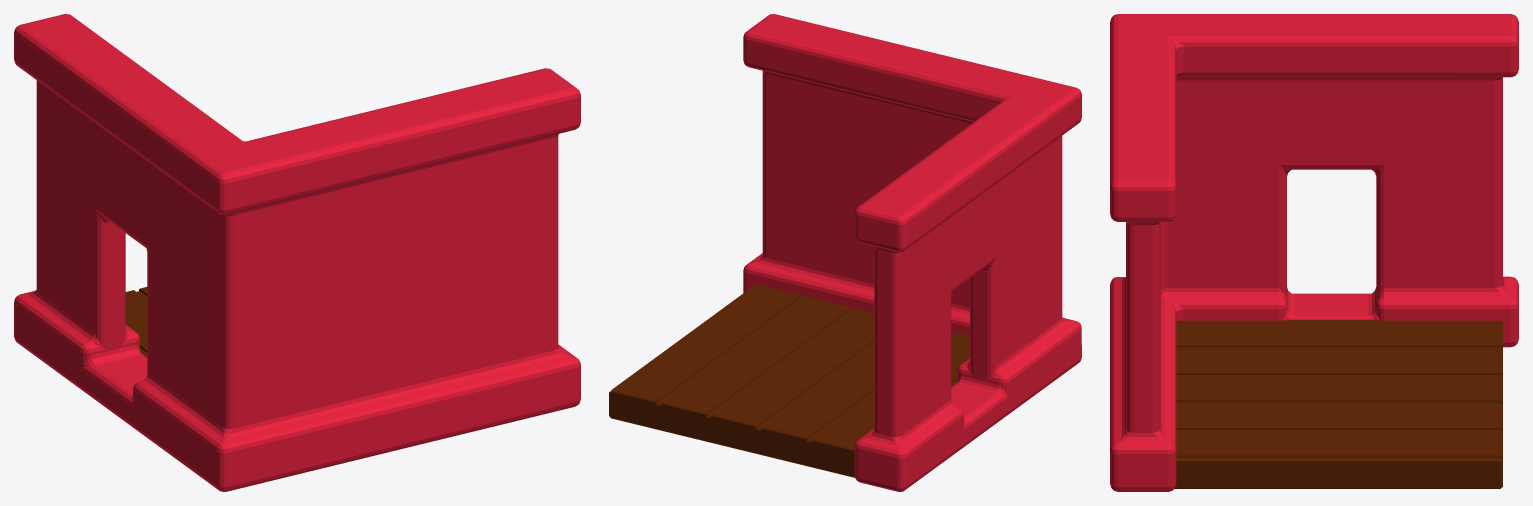
The model's file is RedRoom.fbx.
The picture shows the model from 3 angles, left to right: view 1: azimuth 30°, elevation 25°; view 2: azimuth 150°, elevation 25°; view 3: azimuth 270°, elevation 25°; orthographic projection. The views are drawn at different scales.
Parts seen in each view (by area): view 1: Cube, Plane.001; view 2: Cube, Plane.001, Plane; view 3: Cube, Plane.001, Plane.
Part boxes in pixels (x1=…): Cube: x1=14, y1=14, x2=580, y2=491; Plane.001: x1=125, y1=287, x2=147, y2=352; Cube: x1=743, y1=14, x2=1081, y2=491; Plane.001: x1=611, y1=284, x2=969, y2=454; Plane: x1=609, y1=297, x2=957, y2=477; Cube: x1=1110, y1=14, x2=1518, y2=491; Plane.001: x1=1176, y1=320, x2=1502, y2=459; Plane: x1=1174, y1=319, x2=1502, y2=488.
Bounding box in the file's own units: 239 × 201 × 239.
